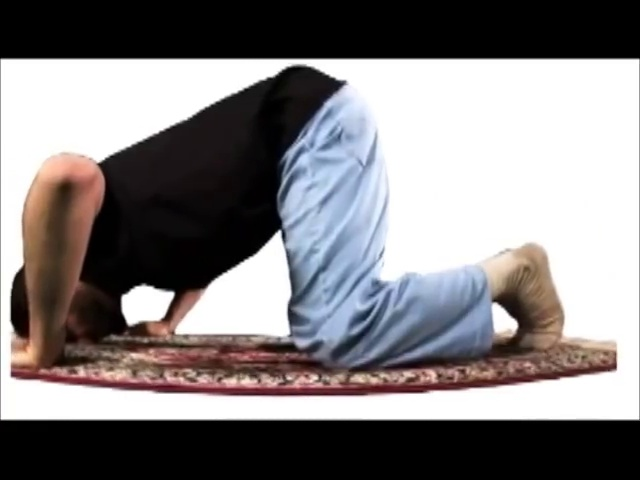sujud: (12, 64, 571, 373)
